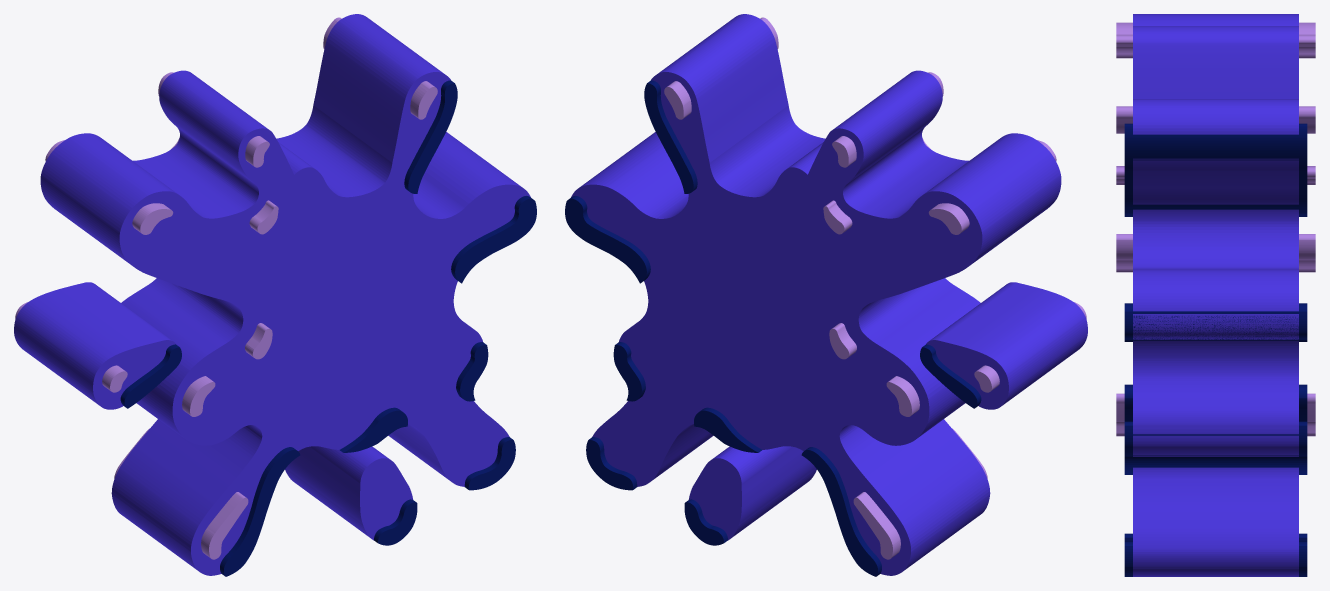
Rendered from U+1FADF.obj.
3 views of the same model, side by side, from view 1: azimuth 30°, elevation 25°; view 2: azimuth 150°, elevation 25°; view 3: azimuth 270°, elevation 25° (orthographic). The views are drawn at different scales.
Parts seen in each view (by area): view 1: U+1FADF_layer00_obj00, U+1FADF_layer01_obj00, U+1FADF_layer02_obj00; view 2: U+1FADF_layer00_obj00, U+1FADF_layer01_obj00, U+1FADF_layer02_obj00; view 3: U+1FADF_layer00_obj00, U+1FADF_layer01_obj00, U+1FADF_layer02_obj00.
Part boxes in pixels (x1,y1,x2,y2): U+1FADF_layer00_obj00: [14, 14, 530, 575]; U+1FADF_layer01_obj00: [120, 80, 536, 576]; U+1FADF_layer02_obj00: [15, 17, 437, 559]; U+1FADF_layer00_obj00: [571, 14, 1087, 575]; U+1FADF_layer01_obj00: [565, 80, 981, 576]; U+1FADF_layer02_obj00: [664, 17, 1086, 559]; U+1FADF_layer00_obj00: [1133, 14, 1298, 576]; U+1FADF_layer01_obj00: [1124, 123, 1307, 576]; U+1FADF_layer02_obj00: [1116, 22, 1315, 436].
Bounding box in the file's own units: 0.3214 × 0.3205 × 0.12.
